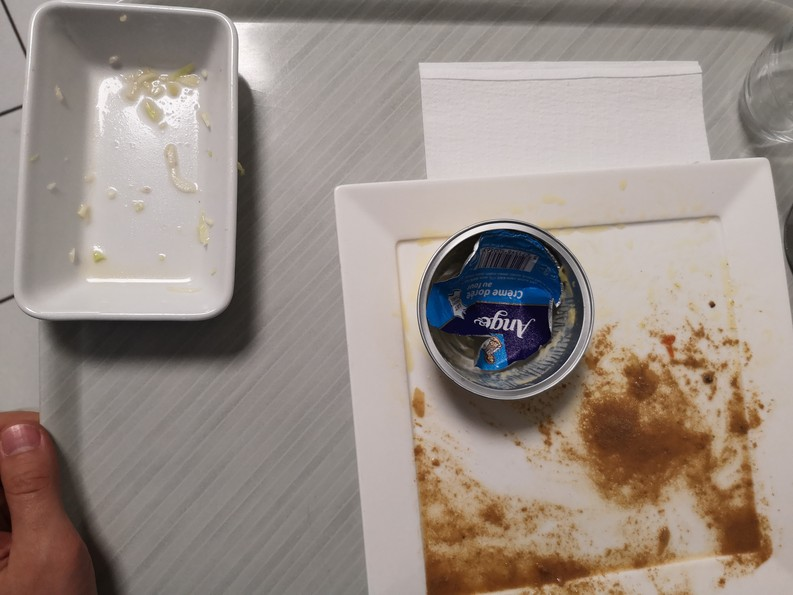trash: (412, 40, 714, 173), (418, 226, 602, 407)
